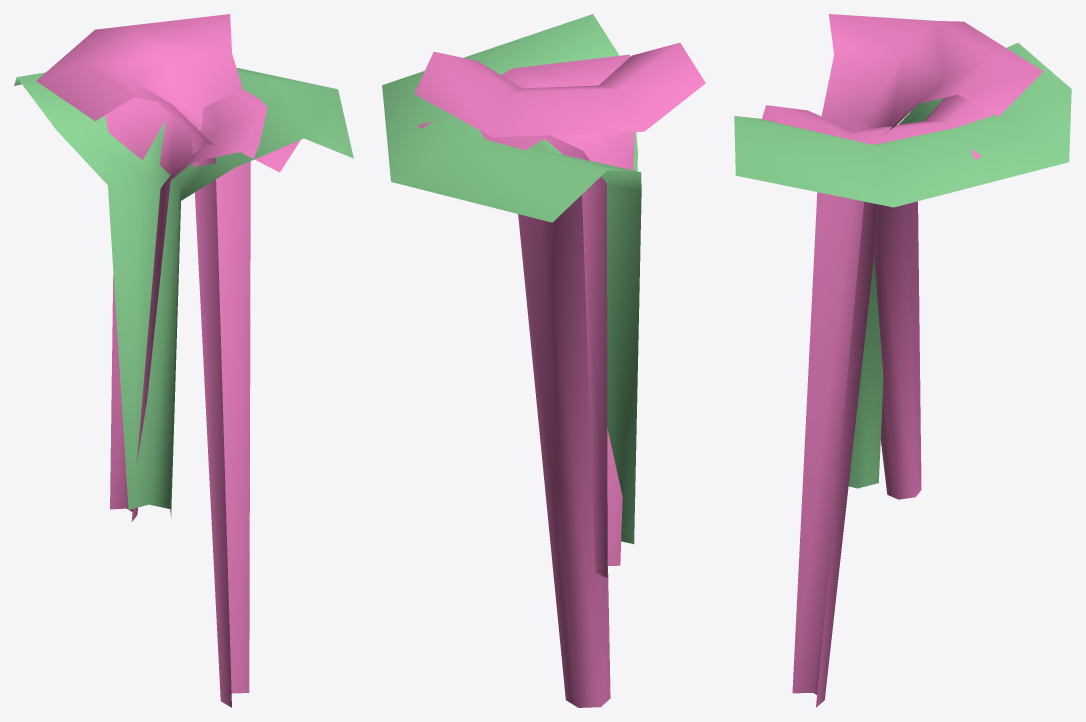
File: flower_07_tulip_detach.glb
The picture shows the model from 3 angles, left to right: view 1: azimuth 30°, elevation 25°; view 2: azimuth 150°, elevation 25°; view 3: azimuth 270°, elevation 25°; orthographic projection. The views are drawn at different scales.
Parts seen in each view (by area): view 1: Piece_Petal_B, Piece_Leaf, Piece_Petal_A; view 2: Piece_Petal_B, Piece_Leaf, Piece_Petal_A; view 3: Piece_Petal_B, Piece_Leaf, Piece_Petal_A.
Boxes of the visible parts, x1,y1,x2,y2 form: Piece_Petal_B: (36, 14, 250, 707); Piece_Leaf: (14, 68, 353, 518); Piece_Petal_A: (105, 90, 300, 521); Piece_Petal_B: (414, 42, 705, 707); Piece_Leaf: (382, 14, 641, 543); Piece_Petal_A: (418, 54, 634, 577); Piece_Petal_B: (792, 14, 1043, 707); Piece_Leaf: (734, 43, 1071, 488); Piece_Petal_A: (762, 94, 992, 499).
Size of the model in its own units: 0.4702 by 1.04 by 0.4953.
